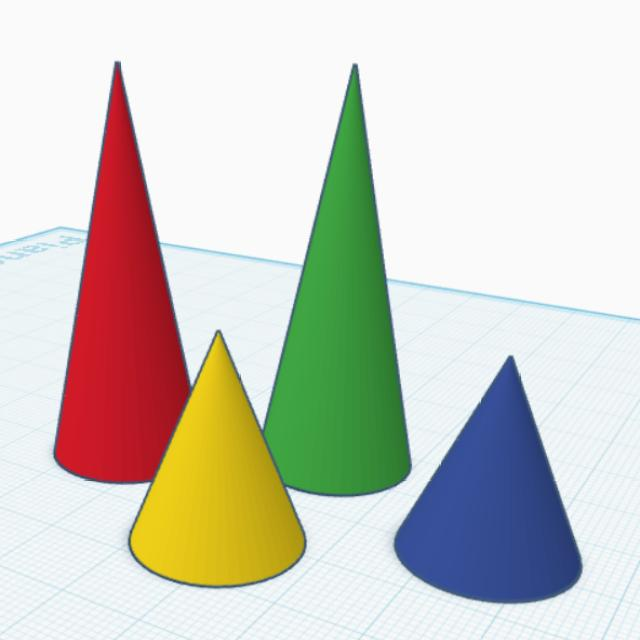cone: (123, 324, 311, 592), (390, 352, 588, 606)
